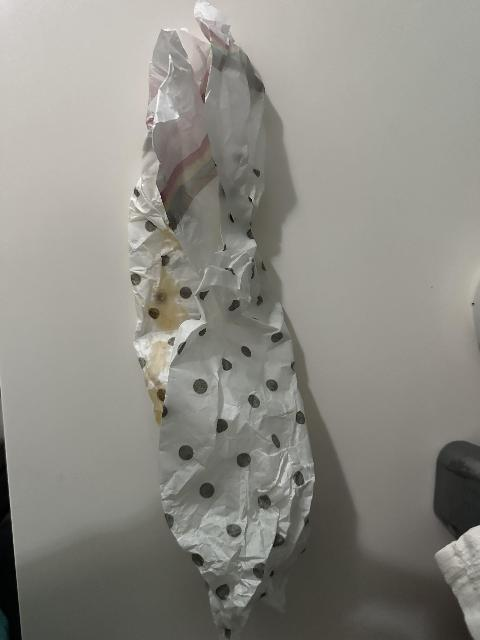Kagit: (95, 0, 325, 640)
